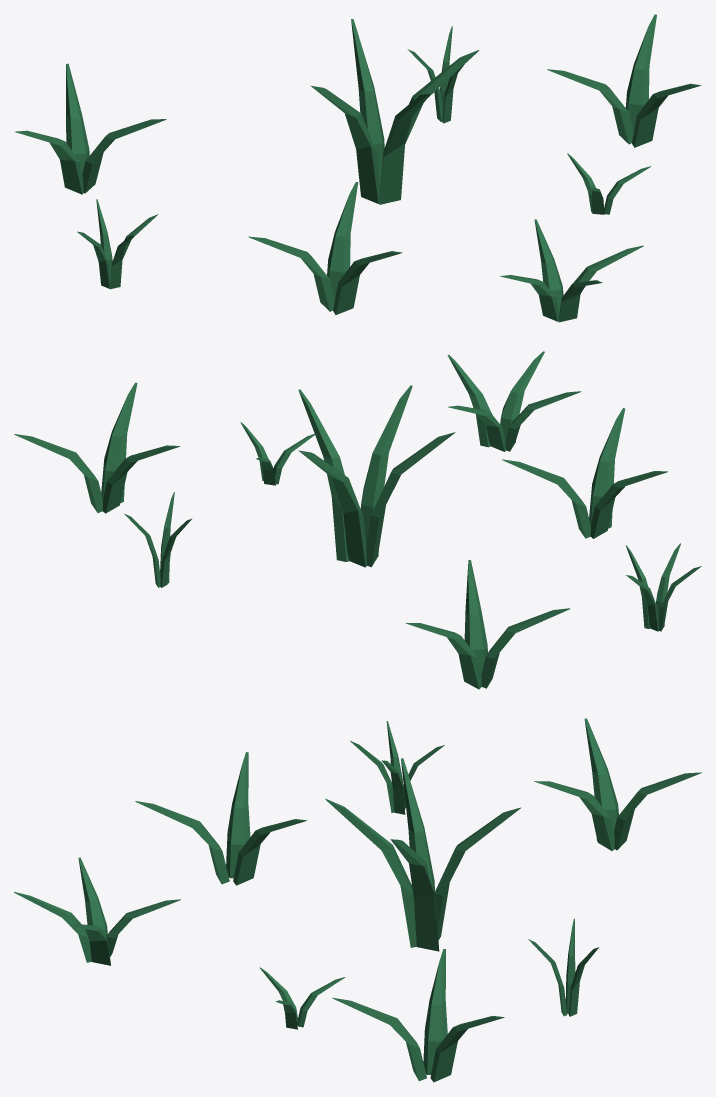
File: SM_L_Grass.fbx
3 renders of one model, top to bottom at view 1: azimuth 30°, elevation 25°; view 2: azimuth 150°, elevation 25°; view 3: azimuth 270°, elevation 25°, orthographic. The views are drawn at different scales.
Parts seen in each view (by area): view 1: SM_Grass; view 2: SM_Grass; view 3: SM_Grass.
Part boxes in pixels (bbox=[...]): SM_Grass: bbox=[14, 14, 701, 322]; SM_Grass: bbox=[14, 351, 701, 689]; SM_Grass: bbox=[14, 718, 701, 1082].
Bounding box in the file's own units: 0.7389 × 0.1655 × 0.6775.
